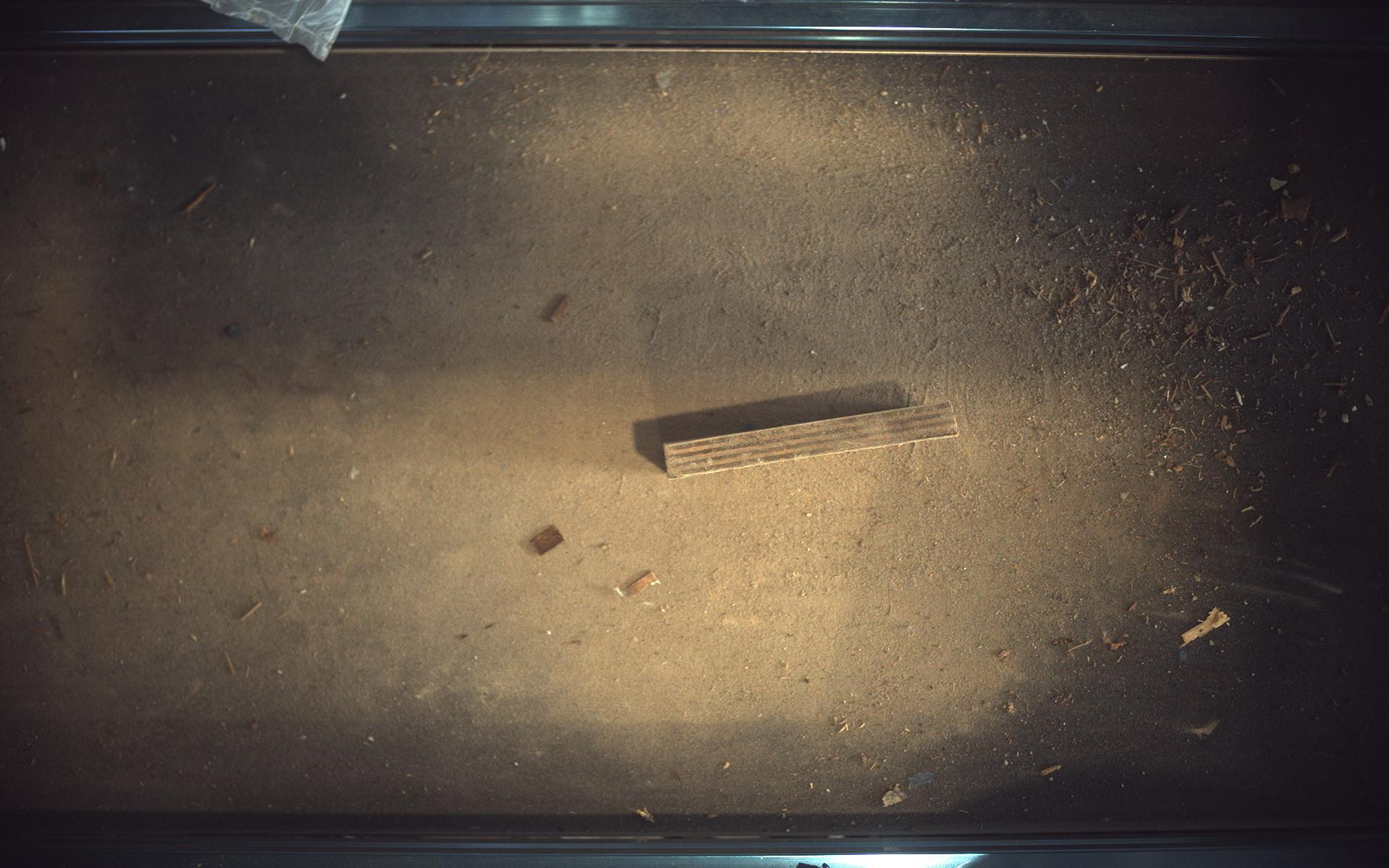wood: (665, 401, 961, 478)
